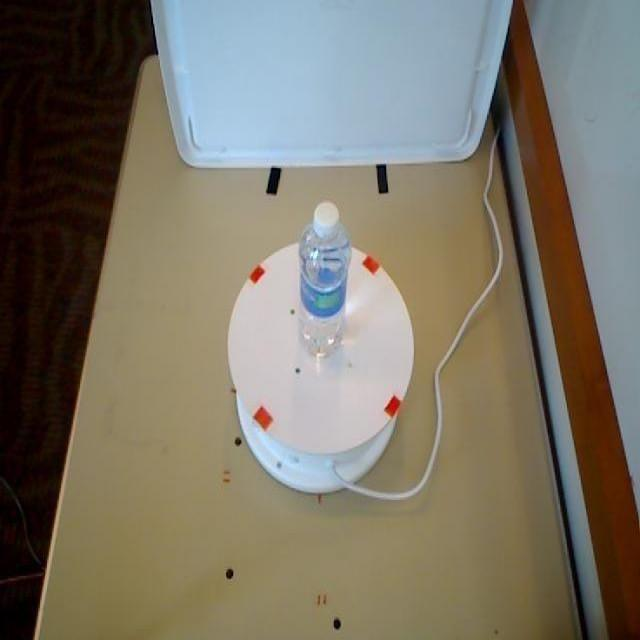bottle-plastic: (295, 196, 355, 365)
